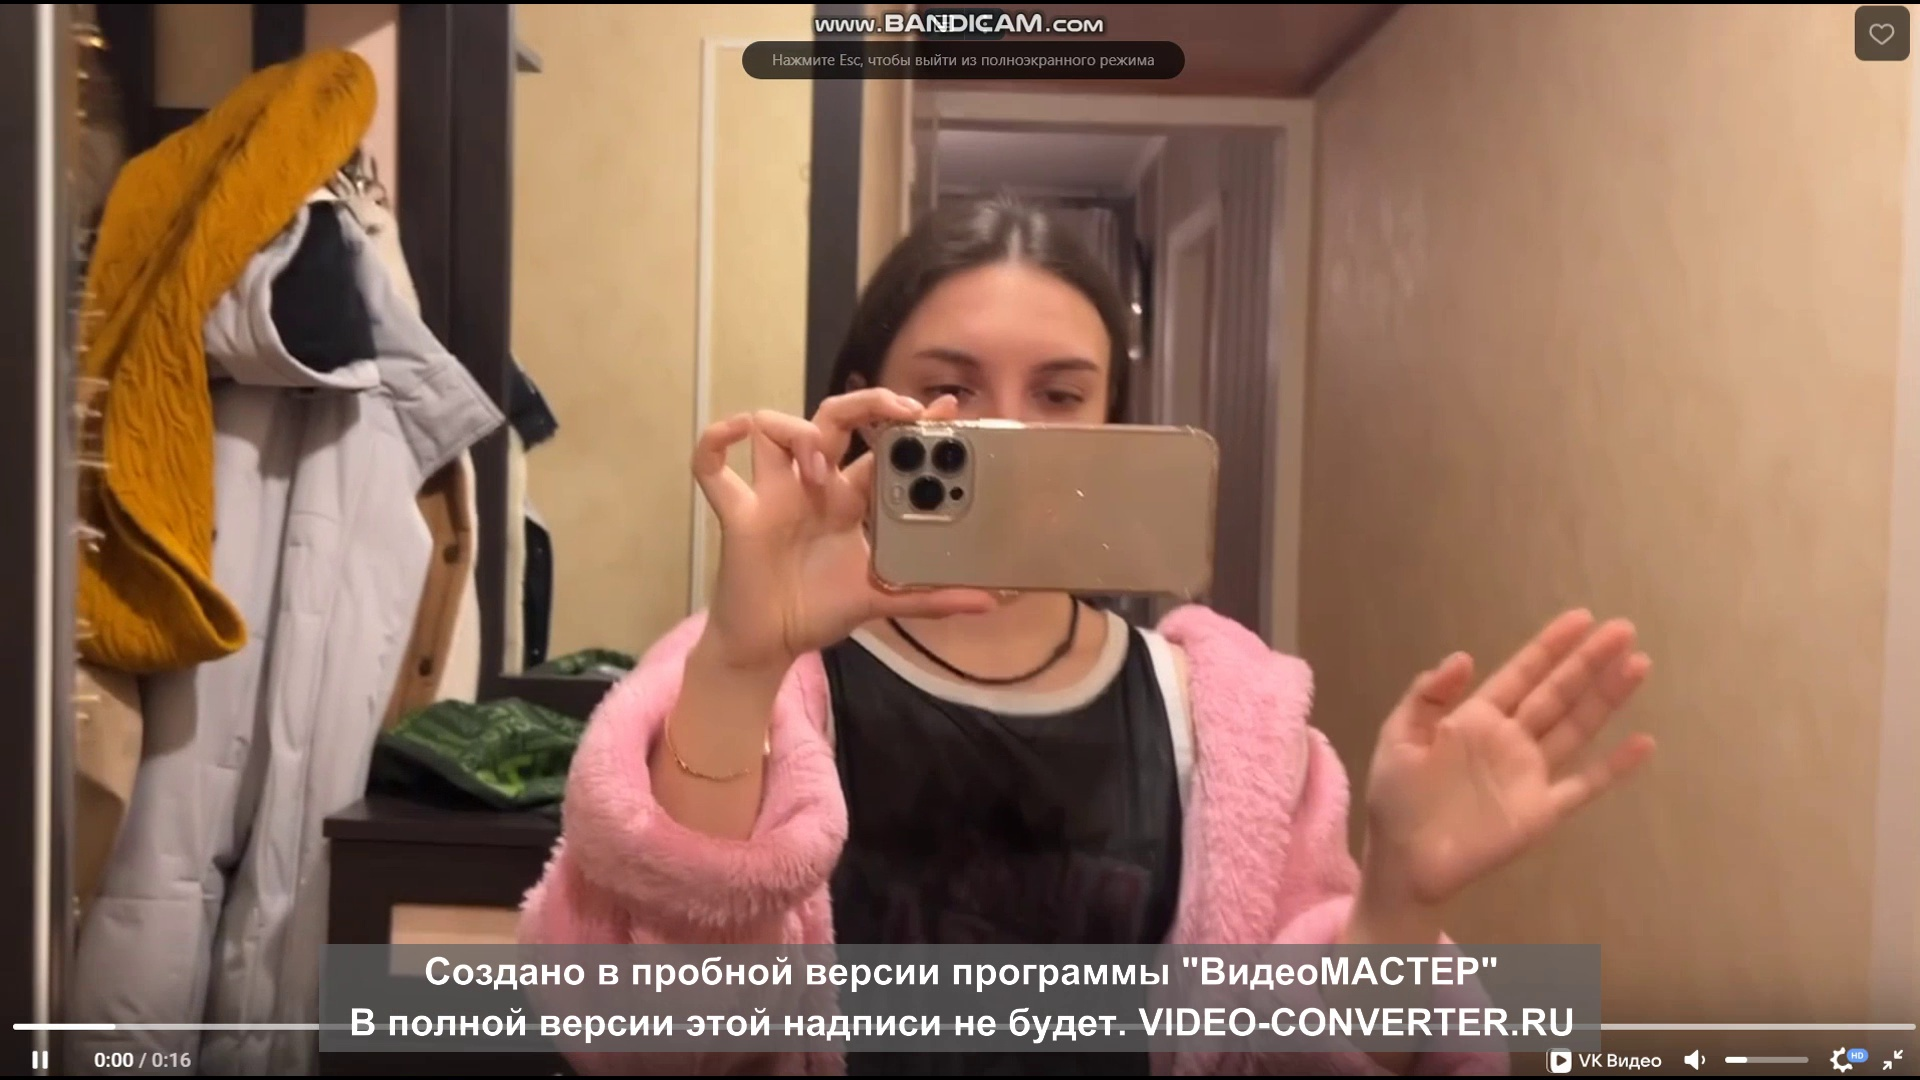Ладонь: (1357, 611, 1654, 903)
